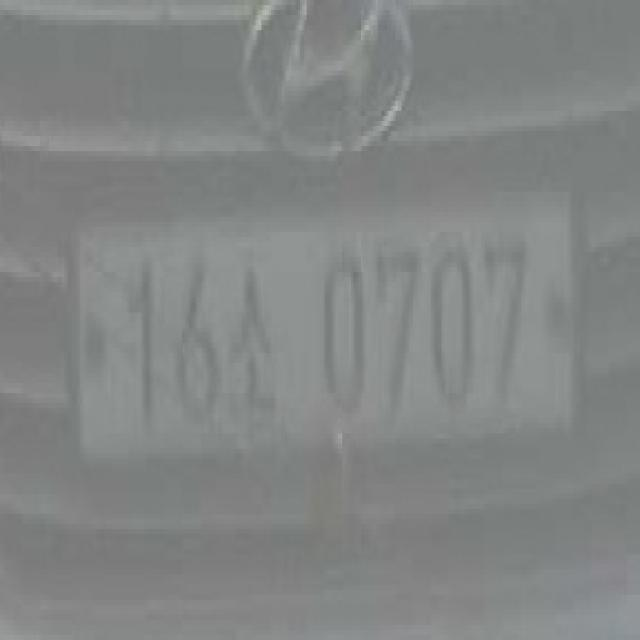0: (313, 232, 371, 433), (426, 237, 476, 433)
1: (120, 252, 162, 443)
6: (169, 242, 224, 448)
7: (478, 222, 533, 433), (371, 232, 425, 433)
license_plate: (56, 171, 594, 494)
so: (224, 252, 280, 443)
